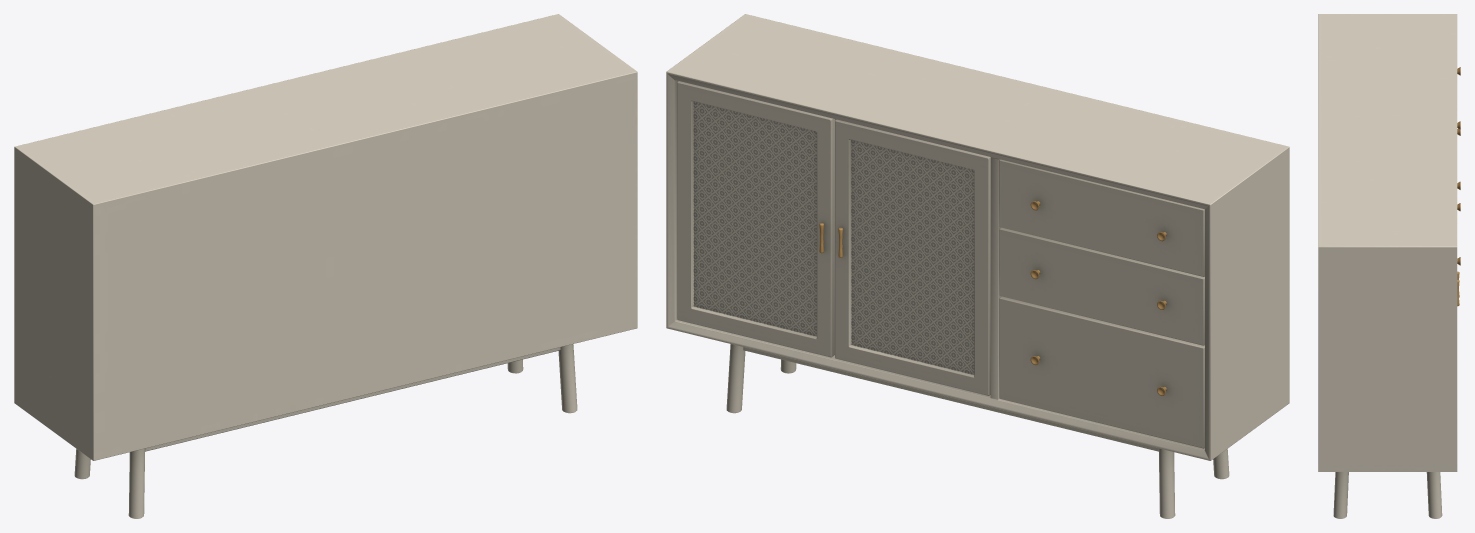
File: credenza.glb
3 renders of one model, left to right at view 1: azimuth 30°, elevation 25°; view 2: azimuth 150°, elevation 25°; view 3: azimuth 270°, elevation 25°, orthographic. The views are drawn at different scales.
Visible parts, largest first — view 1: accent_cabinet_pfo_bsw; view 2: accent_cabinet_pfo_bsw; view 3: accent_cabinet_pfo_bsw.
Part boxes in pixels (bbox=[...]): accent_cabinet_pfo_bsw: bbox=[14, 14, 637, 518]; accent_cabinet_pfo_bsw: bbox=[666, 14, 1289, 518]; accent_cabinet_pfo_bsw: bbox=[1318, 14, 1460, 518].
Size of the model in its own units: 1.39 by 0.8128 by 0.3578.
Materials: 1 (1 with a texture image).
